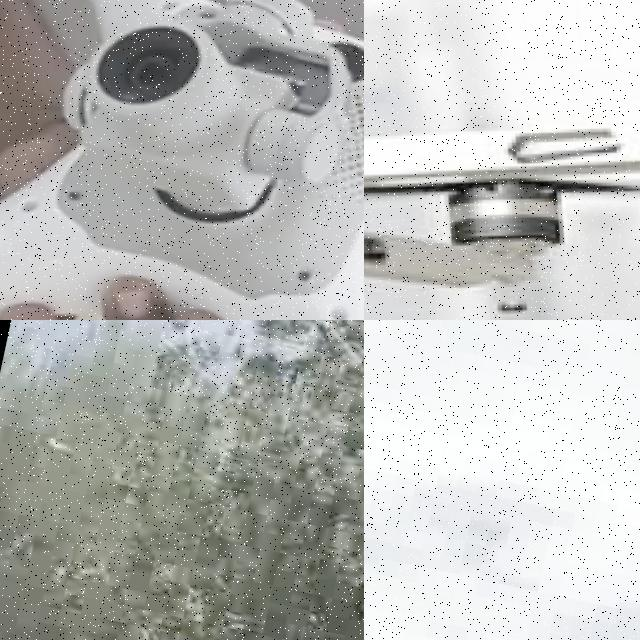drone: (0, 0, 364, 320), (364, 0, 640, 320)
